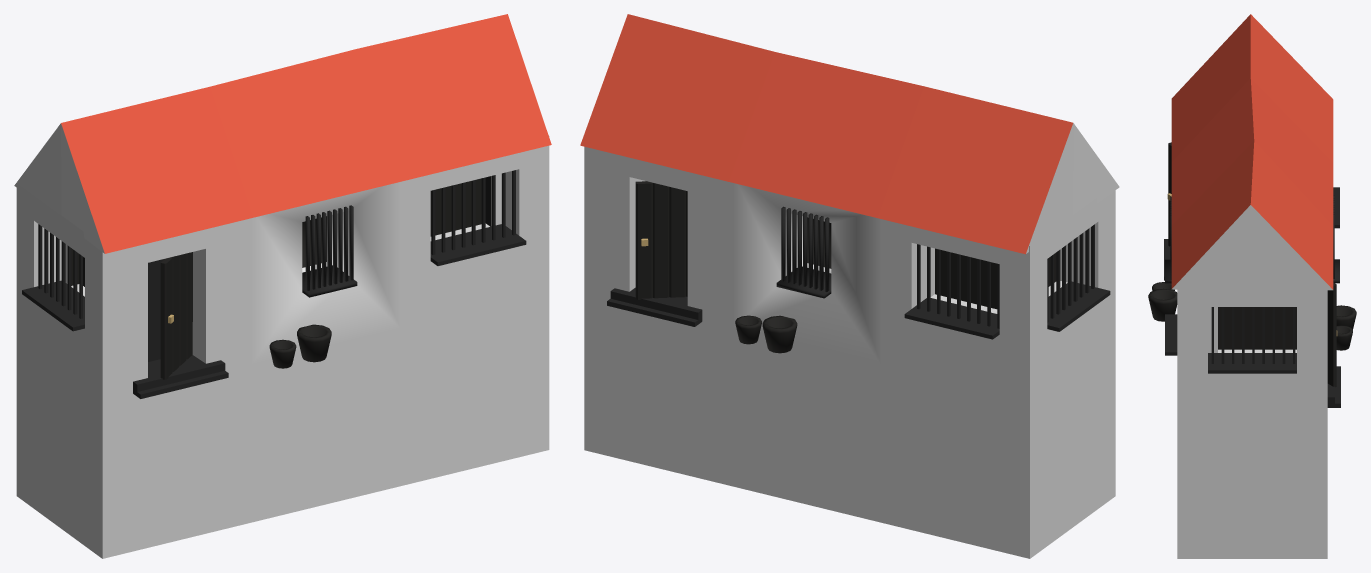
File: casa procedural_relleno_Con sotano.fbx
The picture shows the model from 3 angles, left to right: view 1: azimuth 30°, elevation 25°; view 2: azimuth 150°, elevation 25°; view 3: azimuth 270°, elevation 25°; orthographic projection. The views are drawn at different scales.
Parts seen in each view (by area): view 1: Procedural_Building_straight.001; view 2: Procedural_Building_straight.001; view 3: Procedural_Building_straight.001.
Boxes of the visible parts, <box> form: Procedural_Building_straight.001: <box>14,14,551,558</box>; Procedural_Building_straight.001: <box>580,14,1119,558</box>; Procedural_Building_straight.001: <box>1148,14,1356,558</box>.
Bounding box in the file's own units: 316 × 260 × 138.
